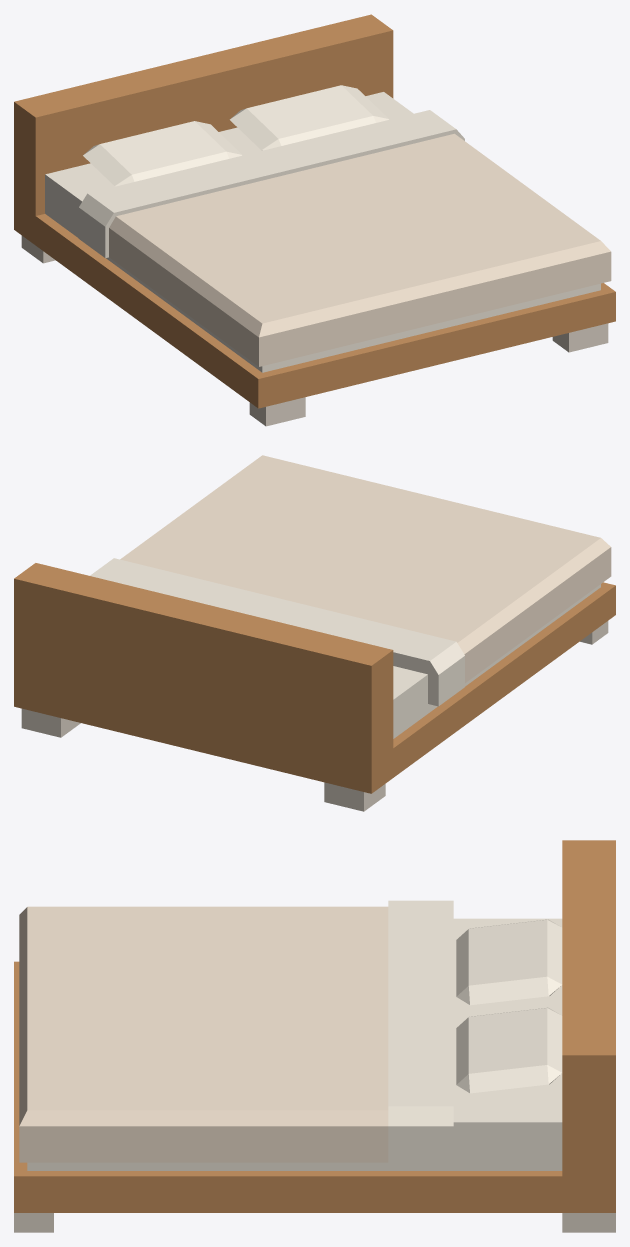
The model's file is kitBedDouble.glb.
The picture shows the model from 3 angles, top to bottom: view 1: azimuth 30°, elevation 25°; view 2: azimuth 150°, elevation 25°; view 3: azimuth 270°, elevation 25°; orthographic projection. The views are drawn at different scales.
Parts seen in each view (by area): view 1: kitBedDouble_fabric, kitBedDouble_wood, kitBedDouble_fabricLight, kitBedDouble_metal; view 2: kitBedDouble_wood, kitBedDouble_fabric, kitBedDouble_fabricLight, kitBedDouble_metal; view 3: kitBedDouble_fabric, kitBedDouble_fabricLight, kitBedDouble_wood, kitBedDouble_metal.
Boxes of the visible parts, x1,y1,x2,y2 form: kitBedDouble_fabric: (109,133,611,366); kitBedDouble_wood: (14,14,615,408); kitBedDouble_fabricLight: (45,85,600,372); kitBedDouble_metal: (21,235,608,426); kitBedDouble_wood: (14,563,615,793); kitBedDouble_fabric: (120,455,611,683); kitBedDouble_fabricLight: (90,558,600,738); kitBedDouble_metal: (21,621,608,811); kitBedDouble_fabric: (19,906,388,1162); kitBedDouble_fabricLight: (27,900,562,1170); kitBedDouble_wood: (14,840,615,1212); kitBedDouble_metal: (14,1213,615,1232).
Bounding box in the file's own units: 1.67 × 0.6533 × 1.96.
